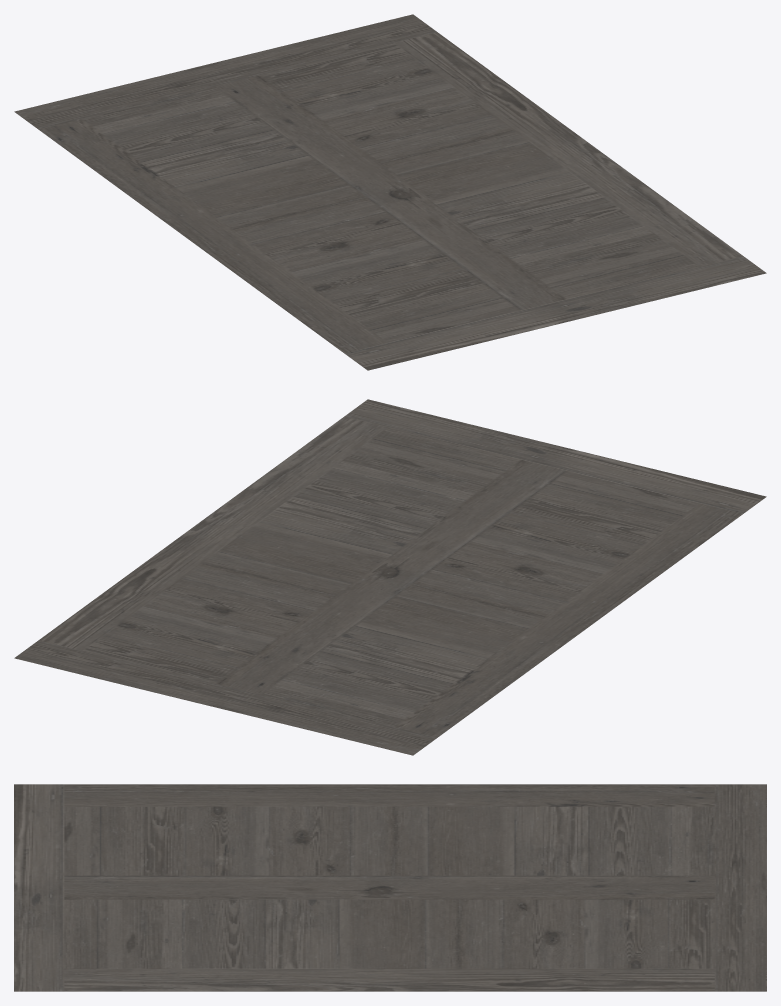
The model's file is SM_Floor01D.fbx.
3 renders of one model, top to bottom at view 1: azimuth 30°, elevation 25°; view 2: azimuth 150°, elevation 25°; view 3: azimuth 270°, elevation 25°, orthographic. The views are drawn at different scales.
Parts seen in each view (by area): view 1: SM_Floor01D; view 2: SM_Floor01D; view 3: SM_Floor01D.
Part boxes in pixels (<box>): SM_Floor01D: <box>14,14,766,370</box>; SM_Floor01D: <box>14,399,766,755</box>; SM_Floor01D: <box>14,784,766,991</box>.
Size of the model in its own units: 163 by 251 by 3.81e-06.
1 material, 1 textured.
